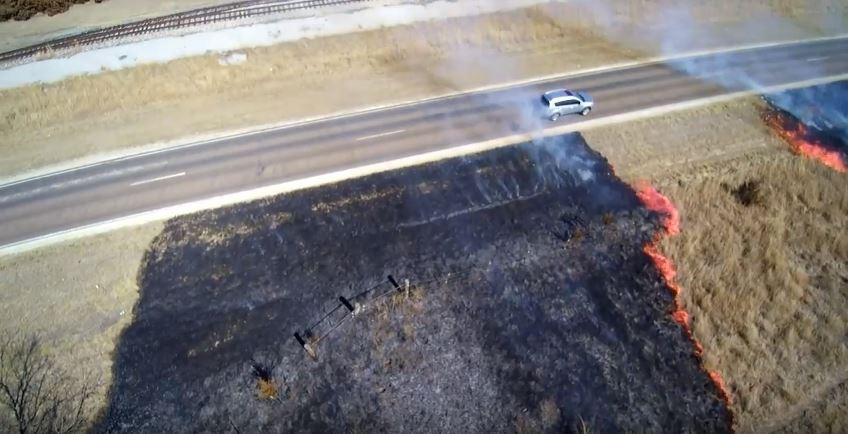fire: (640, 181, 681, 223), (796, 137, 833, 160), (650, 251, 674, 277)
